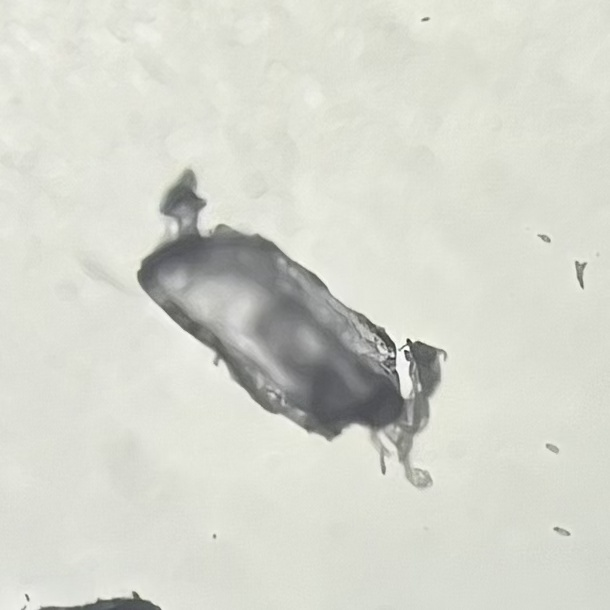microplastic: (136, 167, 435, 489), (43, 592, 159, 610)
